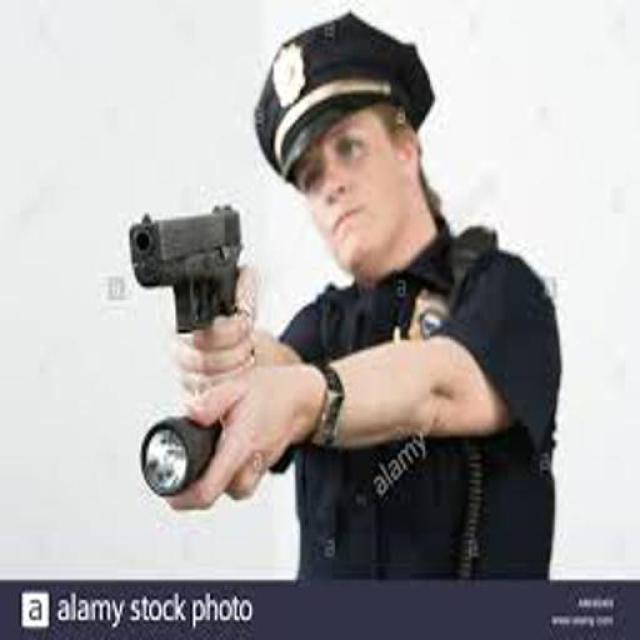pistol: (126, 196, 246, 342)
